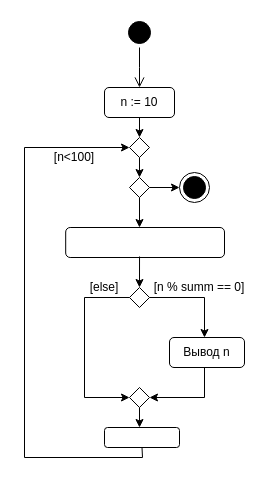
The diagram is 267 pixels wide and 483 high, and some of its shapes have lost their labels. Here are the shapes that lost their labels. From the top down, the centre of each, then its label:
At (144,242): "summ := (n // 10) + (n % 10)".
At (142,437): "n = n + 1".
